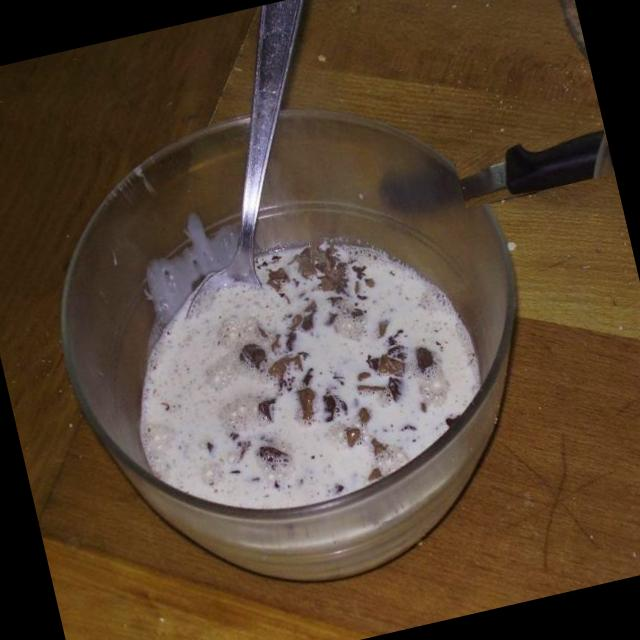Knife: (460, 131, 604, 198)
